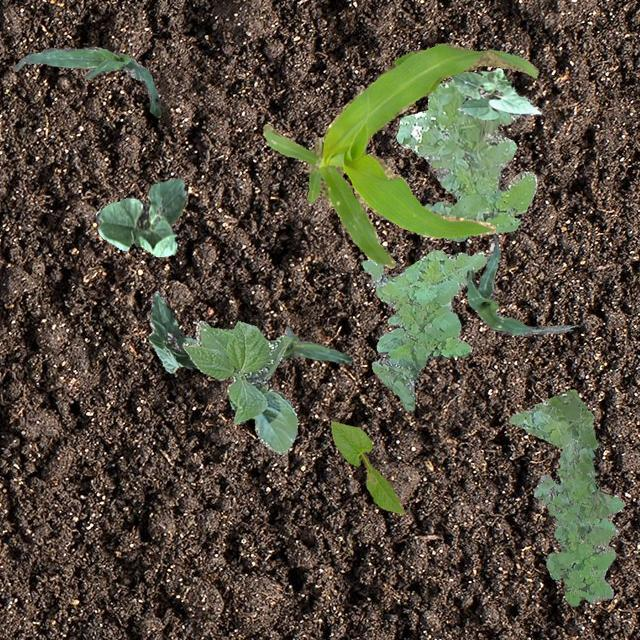crop: (262, 41, 538, 268), (182, 320, 296, 452), (466, 234, 570, 336), (12, 46, 160, 116), (94, 178, 186, 255), (329, 420, 404, 512), (449, 66, 541, 120), (148, 290, 196, 372), (280, 326, 350, 362)
weed: (394, 80, 536, 240), (362, 248, 486, 410), (532, 438, 624, 606), (508, 388, 598, 448)
